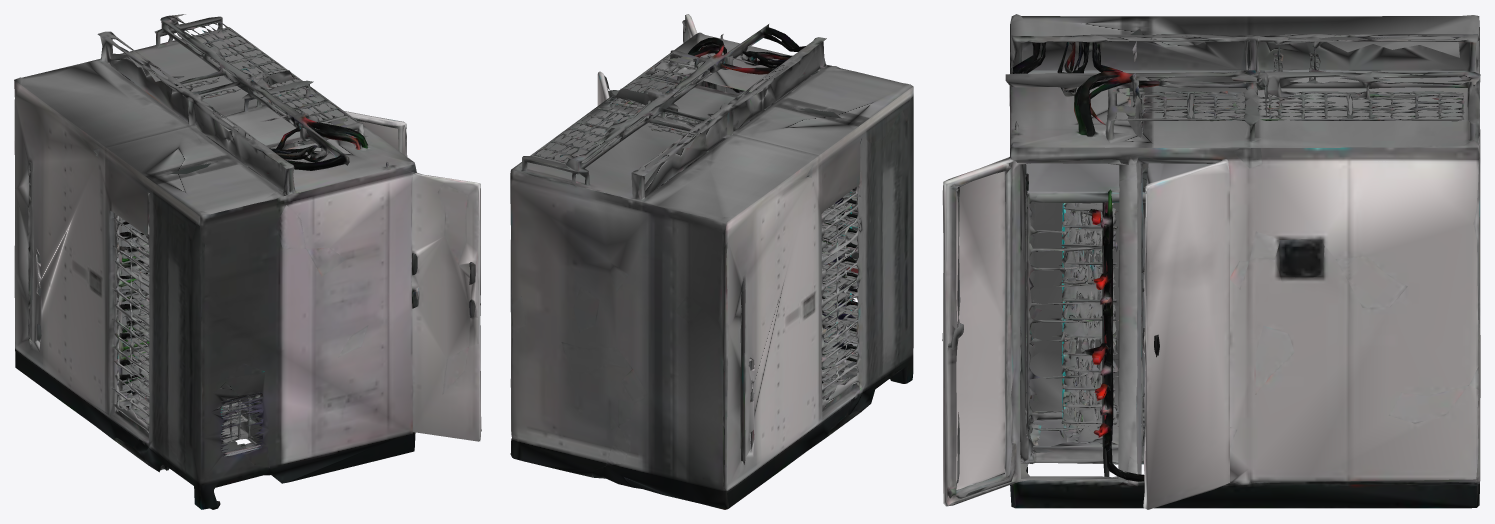
Rendered from bess.glb.
3 renders of one model, left to right at view 1: azimuth 30°, elevation 25°; view 2: azimuth 150°, elevation 25°; view 3: azimuth 270°, elevation 25°, orthographic. The views are drawn at different scales.
Parts seen in each view (by area): view 1: geometry_0; view 2: geometry_0; view 3: geometry_0.
Boxes of the visible parts, left/top/right/bottom form: geometry_0: left=14, top=14, right=481, bottom=509; geometry_0: left=510, top=14, right=913, bottom=509; geometry_0: left=942, top=14, right=1480, bottom=509.
Bounding box in the file's own units: 0.7124 × 0.8448 × 0.9994.
1 material, 1 textured.
